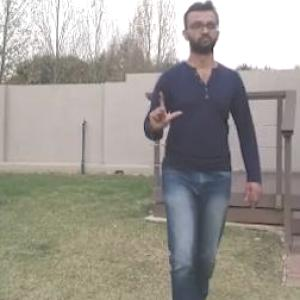land_hand: (143, 84, 186, 137)
